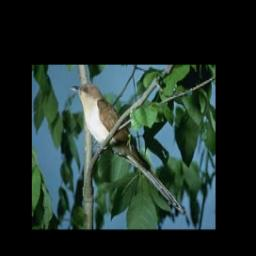Cuckoo: (66, 81, 187, 219)
